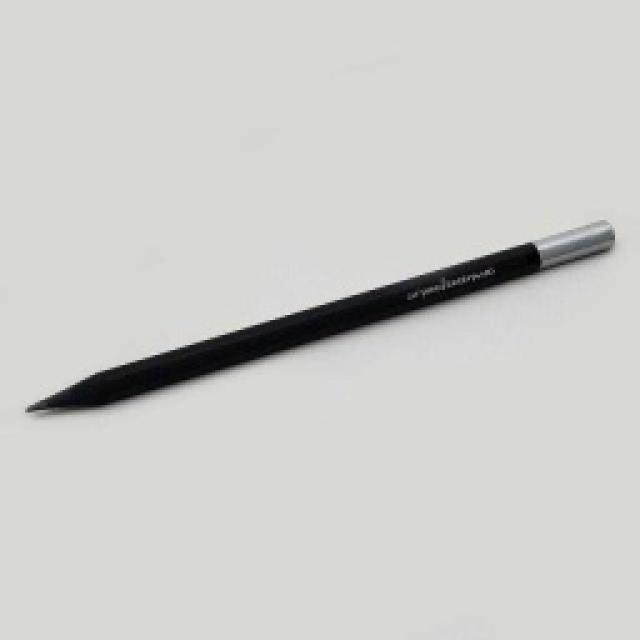pencil: (20, 212, 618, 418)
